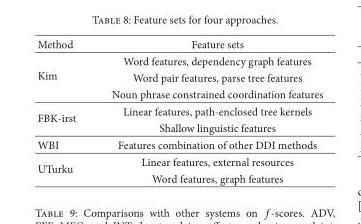table: (36, 36, 322, 185)
table column: (93, 36, 322, 185), (36, 36, 93, 185)
table column header: (36, 36, 322, 52)
table row: (36, 135, 322, 153), (36, 68, 322, 85), (36, 85, 322, 102), (36, 102, 322, 119), (36, 36, 322, 52), (36, 52, 322, 68), (36, 119, 322, 135), (36, 153, 322, 169), (36, 169, 322, 185)
table spanning cell: (36, 52, 93, 102), (36, 102, 93, 135), (36, 153, 93, 185)
